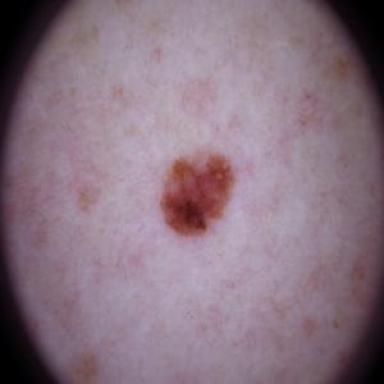Melanoma: (161, 152, 235, 235)
